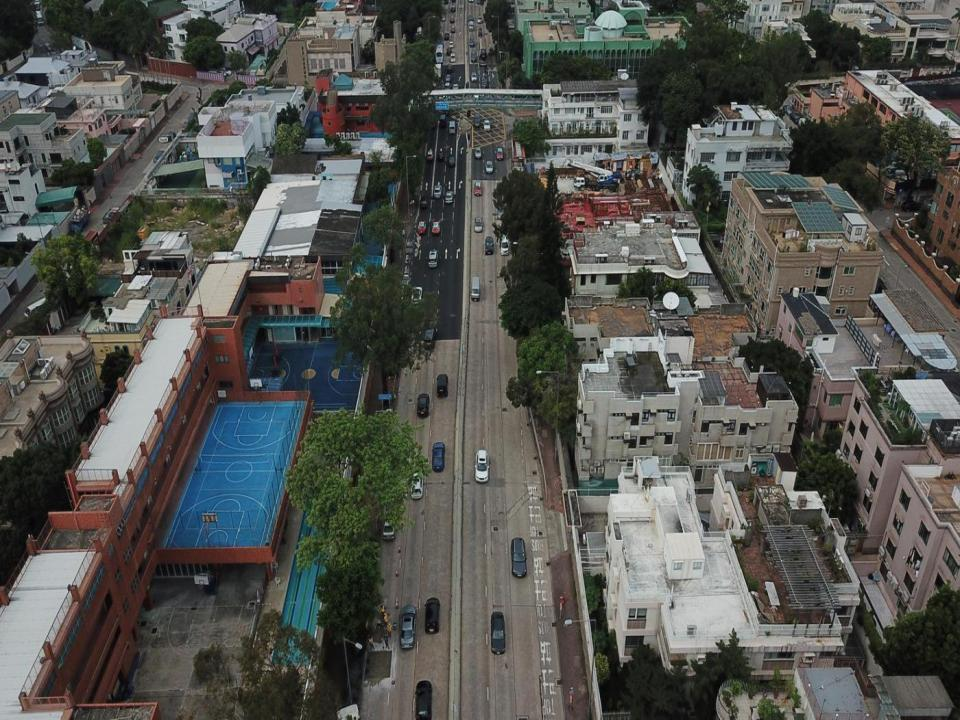bus: (67, 229, 98, 270), (435, 42, 443, 63), (479, 48, 487, 66)
car: (399, 605, 416, 650), (510, 538, 527, 578), (414, 680, 431, 719), (491, 611, 505, 654), (423, 598, 440, 632), (474, 450, 489, 483), (431, 442, 445, 474), (383, 513, 395, 539), (417, 393, 429, 418), (412, 472, 423, 499), (411, 287, 422, 304), (486, 236, 494, 256), (474, 217, 483, 232), (418, 218, 426, 234), (434, 184, 442, 198), (496, 147, 504, 161), (474, 181, 481, 196), (432, 220, 440, 233), (484, 118, 491, 132), (445, 191, 452, 204), (486, 160, 493, 173), (474, 145, 480, 159), (470, 72, 478, 82), (449, 152, 455, 164), (426, 148, 432, 160), (438, 150, 444, 161), (470, 51, 476, 62), (450, 24, 456, 33), (453, 83, 458, 93), (441, 11, 446, 21), (448, 40, 454, 48), (488, 46, 493, 55), (477, 16, 482, 24), (468, 13, 473, 21), (451, 4, 456, 12), (446, 63, 450, 72), (446, 73, 450, 81), (444, 33, 449, 39), (450, 15, 454, 22)
truck: (68, 205, 90, 234), (102, 207, 126, 232)
van: (25, 297, 50, 317), (424, 326, 437, 350), (437, 374, 449, 396), (500, 231, 509, 257), (471, 277, 480, 302), (153, 148, 165, 166), (428, 249, 437, 267), (480, 74, 488, 90), (420, 195, 428, 209), (439, 113, 446, 128), (448, 120, 456, 133), (469, 36, 475, 48), (474, 113, 479, 127), (468, 20, 474, 31), (446, 46, 452, 56), (478, 26, 483, 36), (445, 82, 450, 92), (450, 52, 454, 61)
